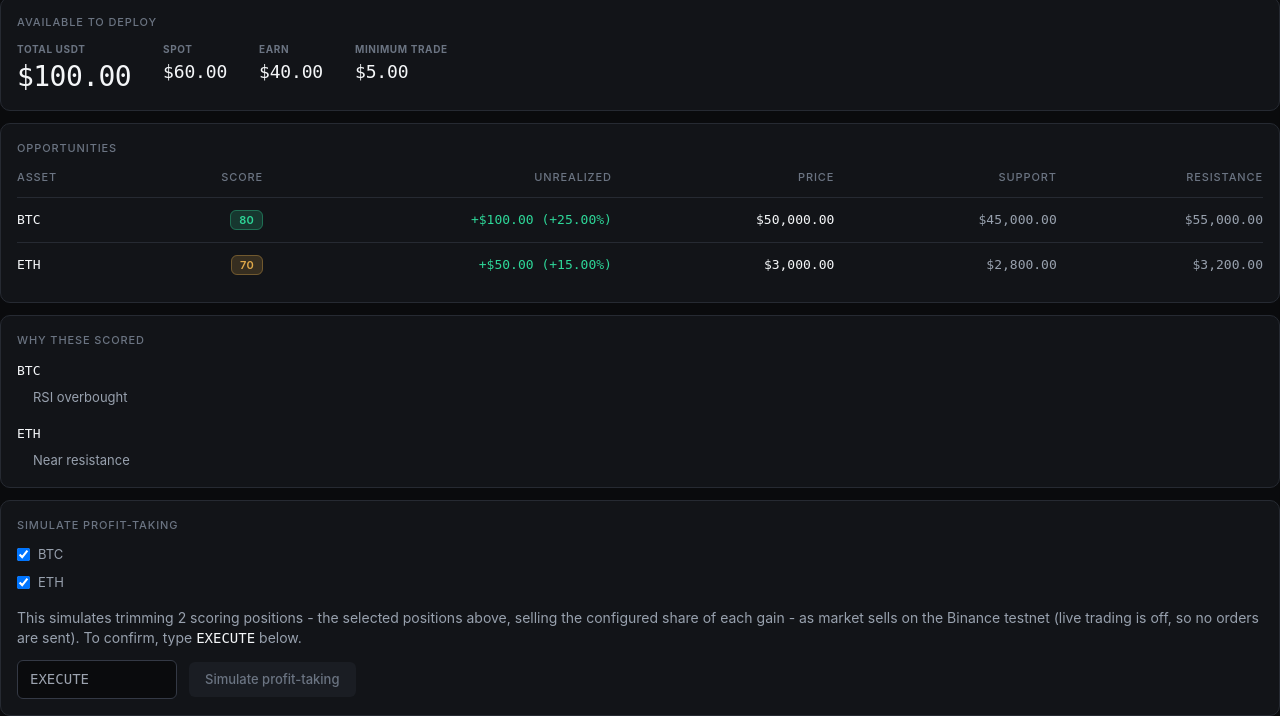
Test: ProfitTaking per-trade selection › disables execution and hints when nothing is selected
(page scrolled)
Step 1. Click the checkbox named "Include BTC" → (24, 555), box [17,548,30,561]
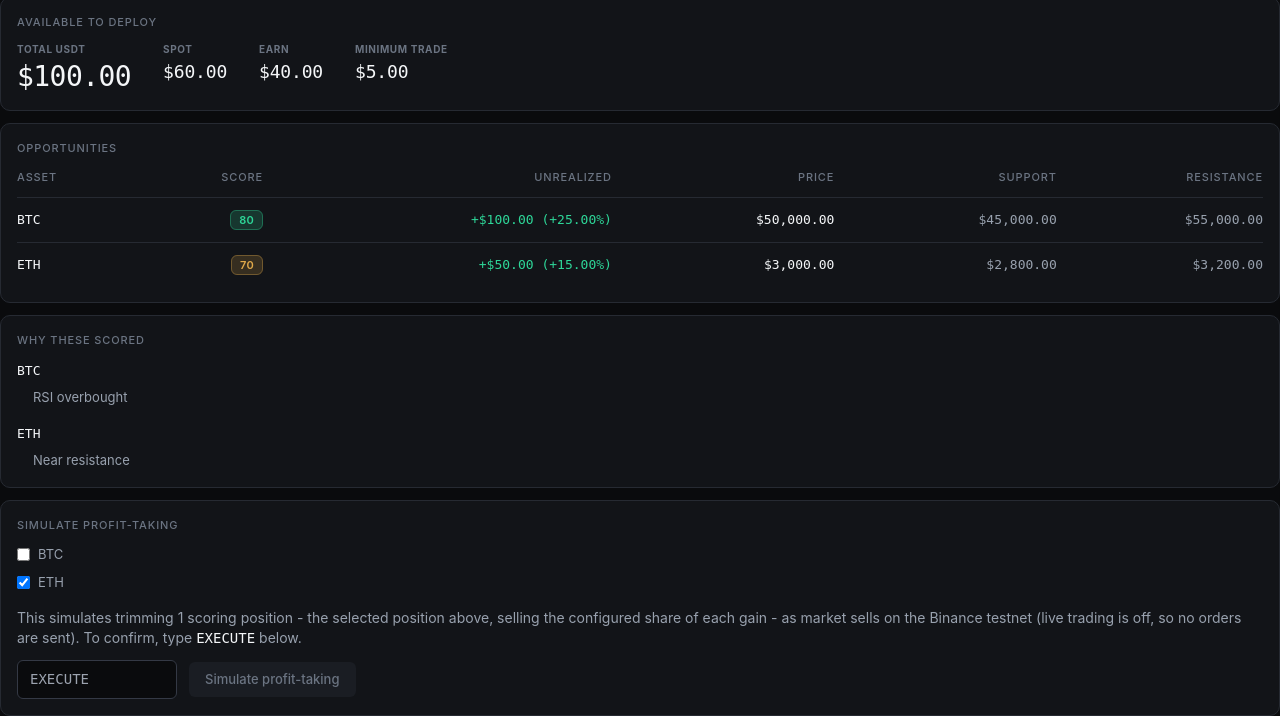
Step 2. Click the checkbox named "Include ETH" → (24, 582), box [17,576,30,589]
(page scrolled)
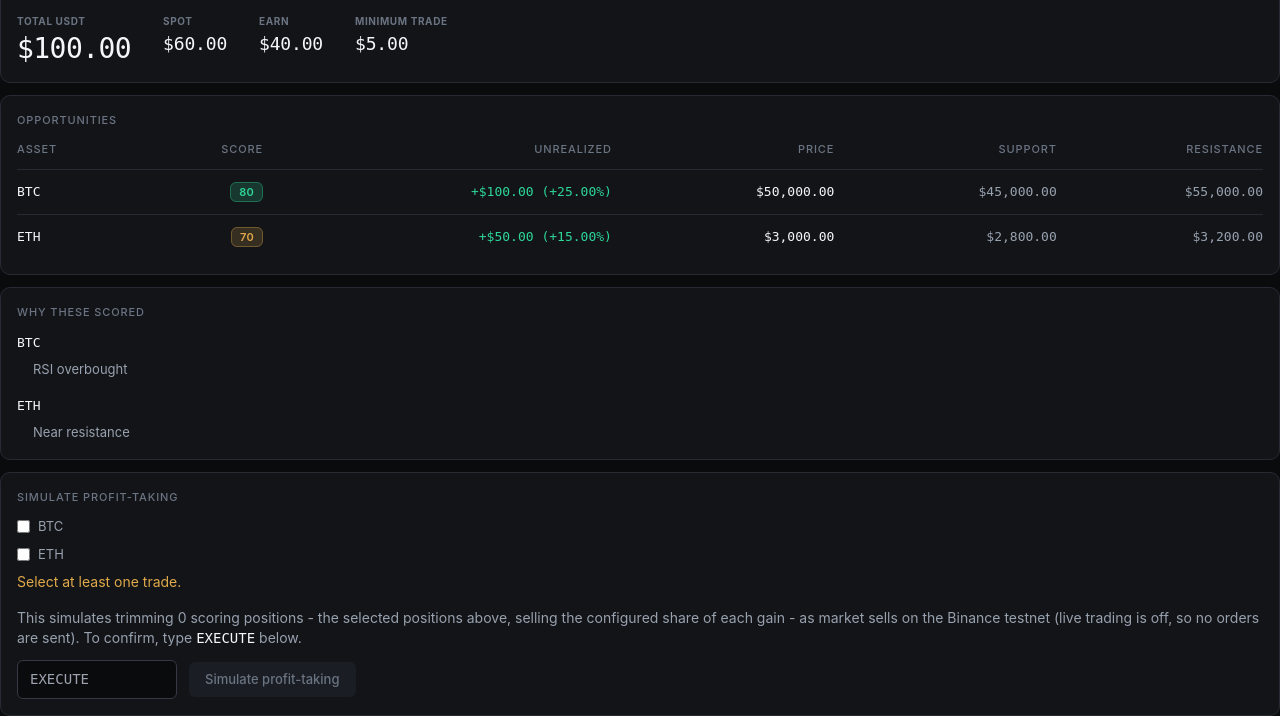
Expected: the button "Simulate profit-taking" is disabled, [189,662,356,697]
Expected: the text "Select at least one trade." is shown, [17,573,181,590]
